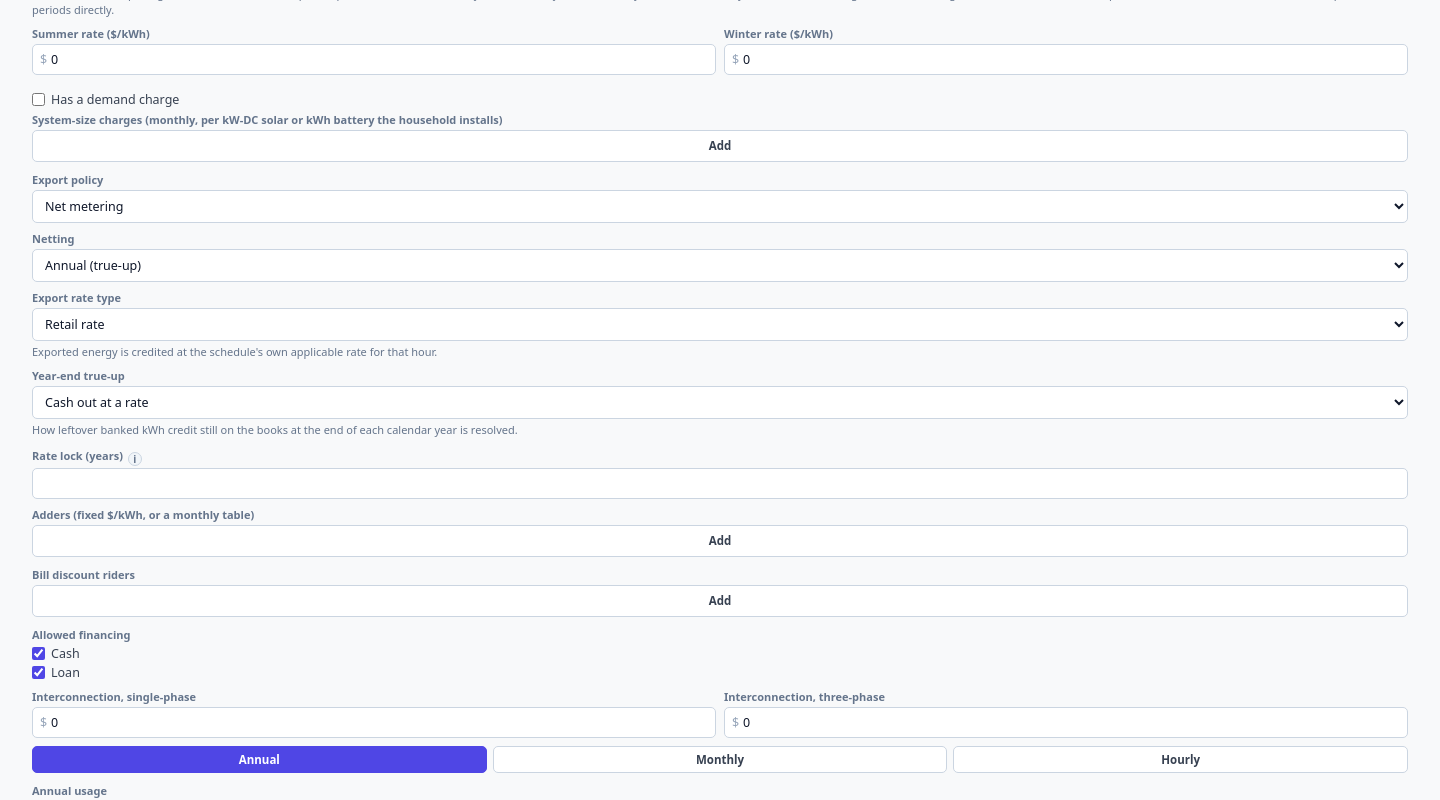
Scenario: HouseholdSection: true-up (netMetering annual only) › selecting 'Cash out at a rate' sets trueUp to {rate:0} and reveals a rate field
(page scrolled)
Select "Cash out at a rate" in the dropdown below "Year-end true-up" at x=720, y=402, box [32,386,1408,419]
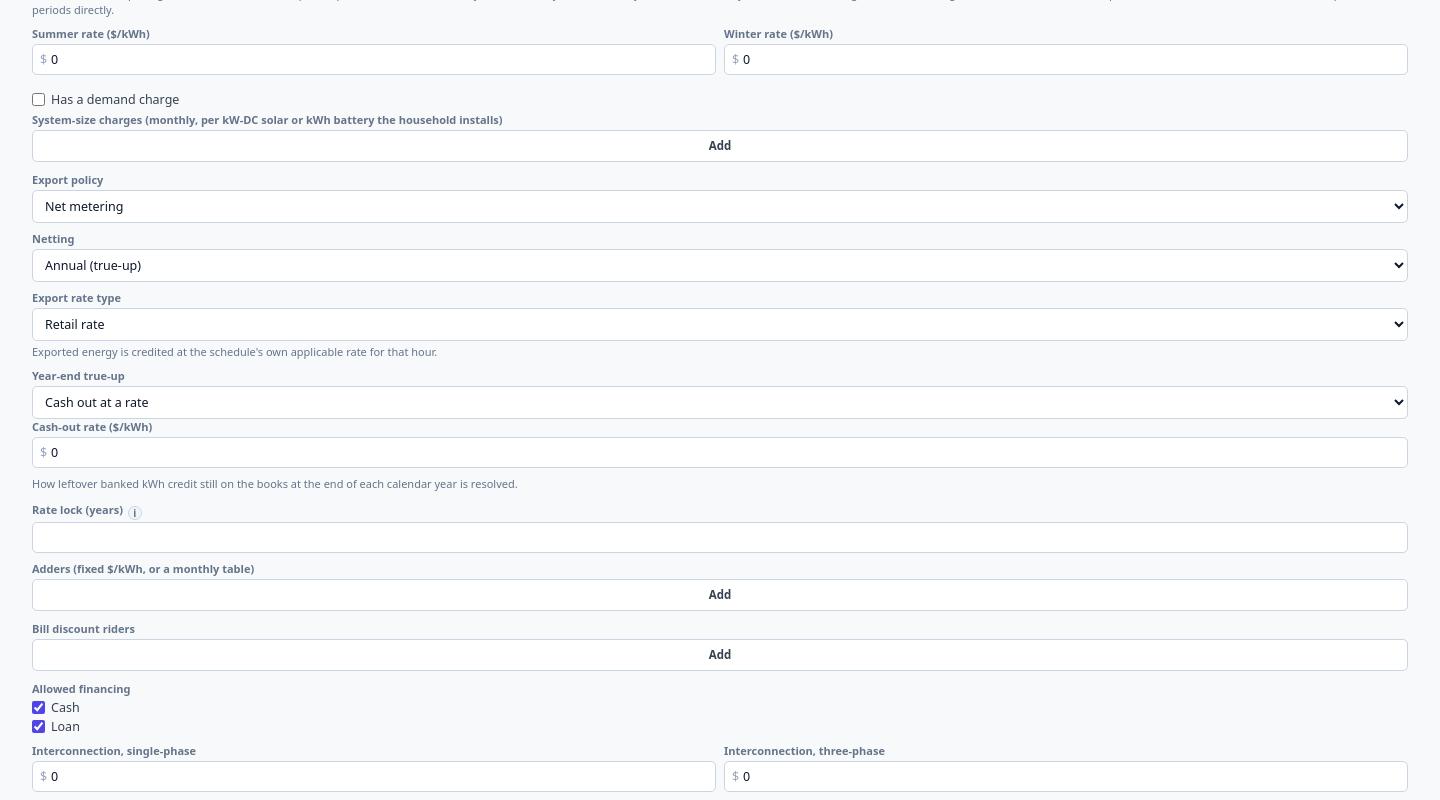
Now the label "Cash-out rate ($/kWh)" is shown, box [32,419,152,434]
